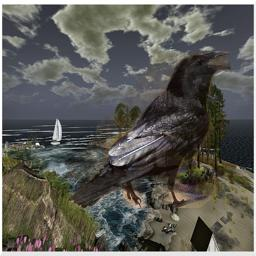Crow: (67, 51, 231, 208)
